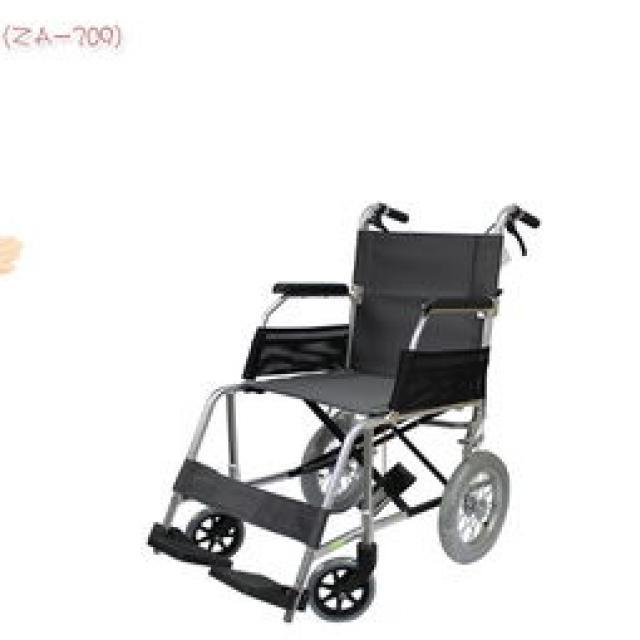wheelchair: (143, 193, 552, 638)
